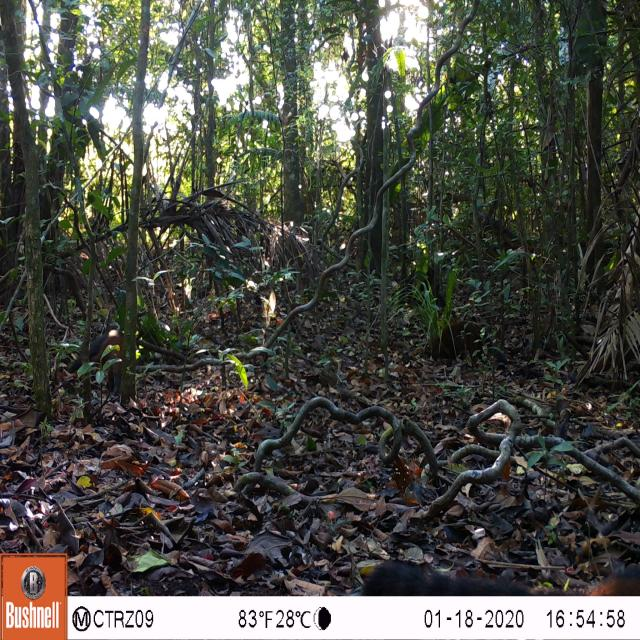South American Coati: (59, 320, 151, 408), (409, 303, 498, 378)
